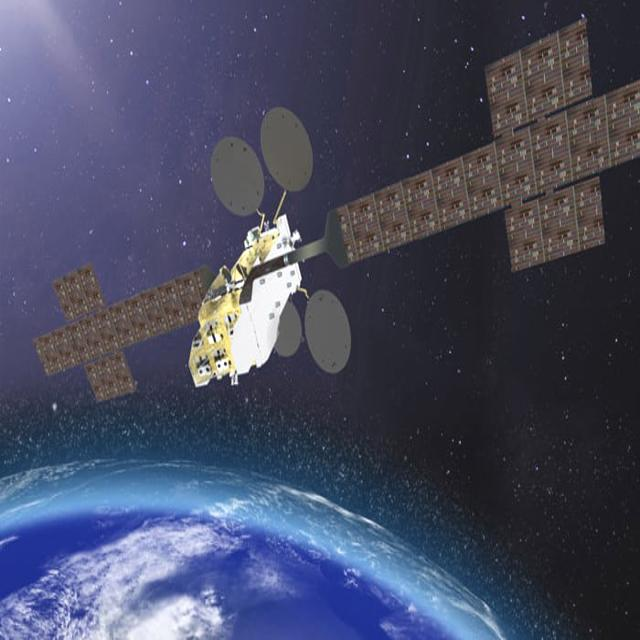satellite: (30, 54, 640, 453)
